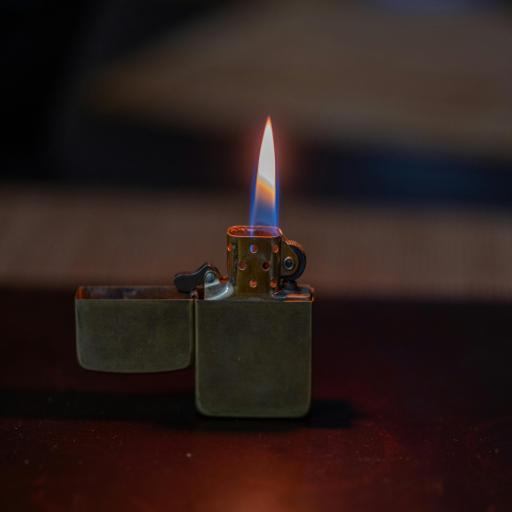lighter: (50, 88, 359, 448)
